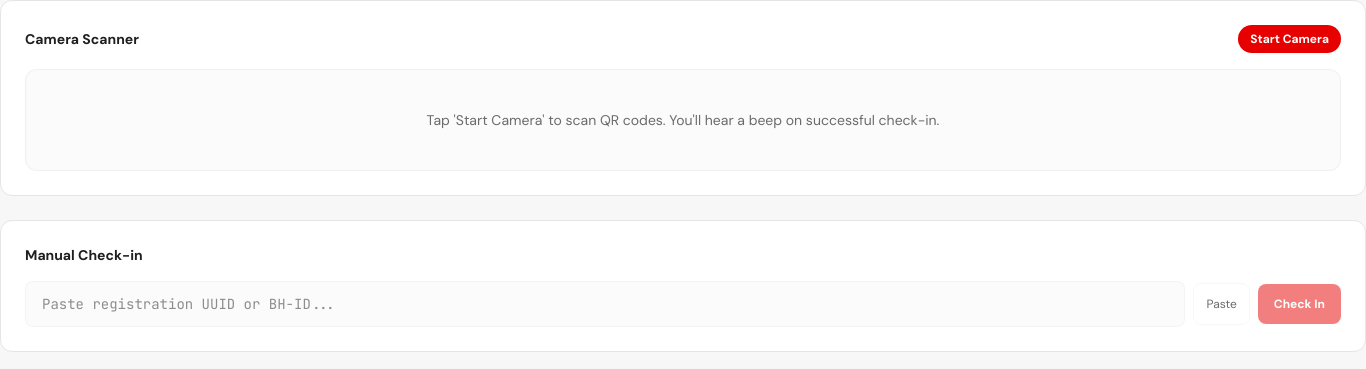
Test: QrScannerClient › manual check-in › enables Check In button when input has text
Type "test-uuid" into the field with placeholder "Paste registration UUID or BH-ID..." at coordinates (605, 304), box [25,281,1186,327]
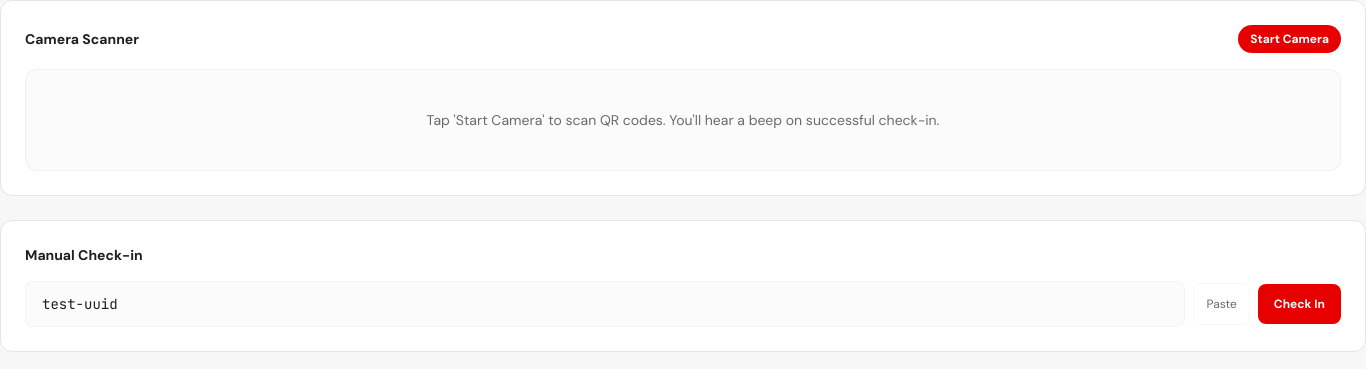
expect the button "Check In" is enabled: met, box [1258,284,1341,324]
